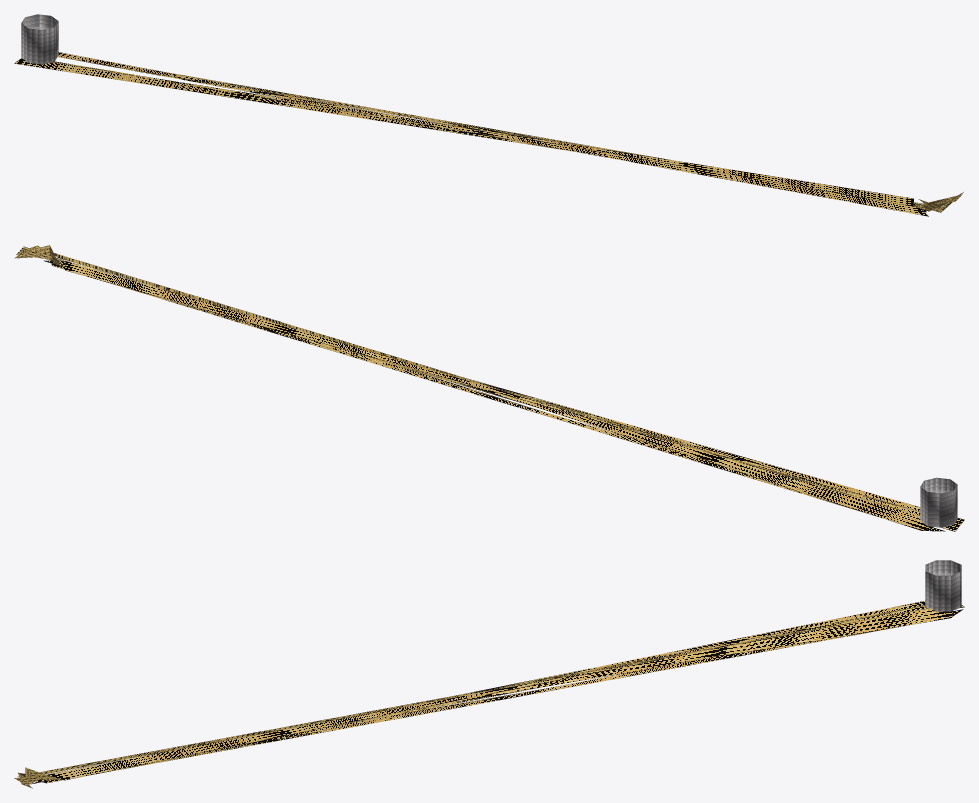
Rendered from 1109item580.gltf.
The picture shows the model from 3 angles, top to bottom: view 1: azimuth 30°, elevation 25°; view 2: azimuth 210°, elevation 25°; view 3: azimuth 270°, elevation 25°; orthographic projection. The views are drawn at different scales.
Visible parts, largest first — view 1: 1109item580; view 2: 1109item580; view 3: 1109item580.
Part boxes in pixels (x1,y1,x2,y2): 1109item580: (14,14,963,216); 1109item580: (14,245,964,531); 1109item580: (14,560,964,788).
Bounding box in the file's own units: 7.34 × 0.9576 × 11.23.
Materials: 3 (2 with a texture image).
